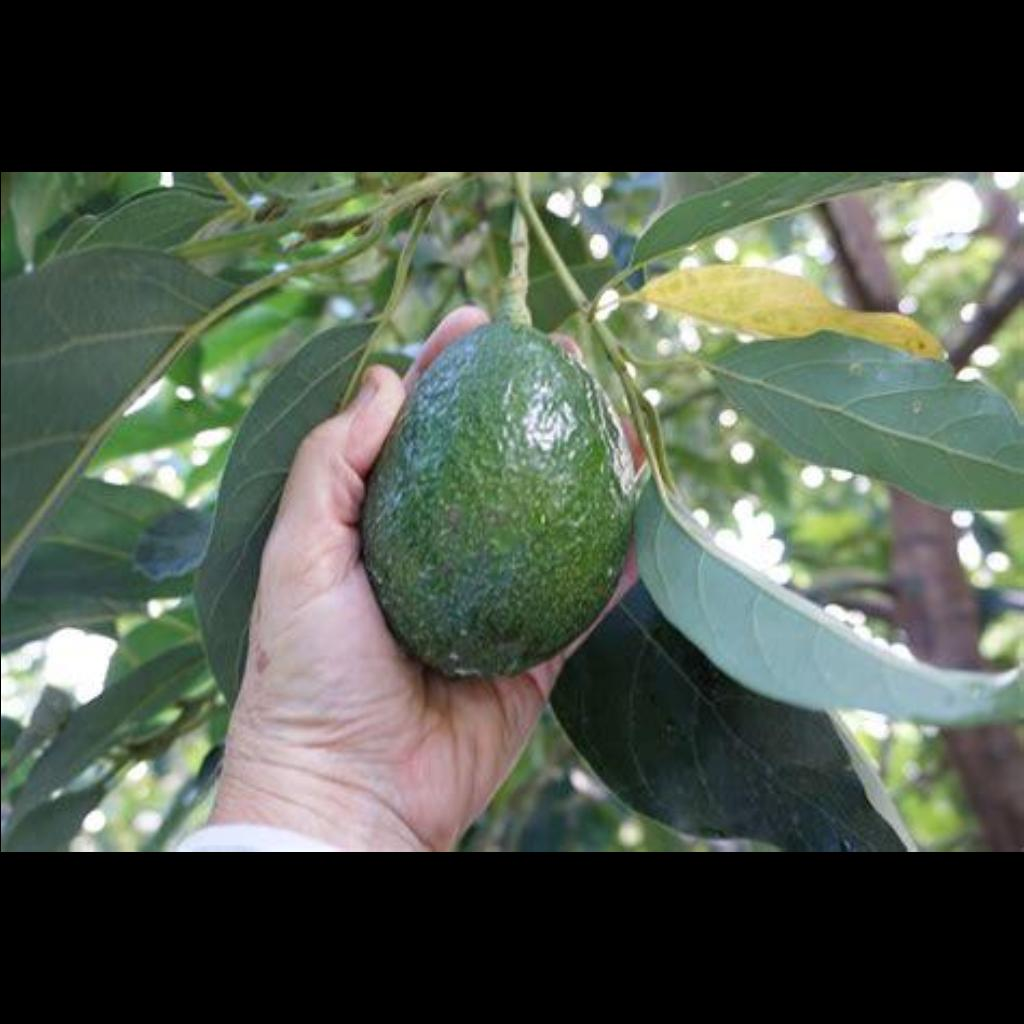fruto_sano: (365, 307, 639, 679)
